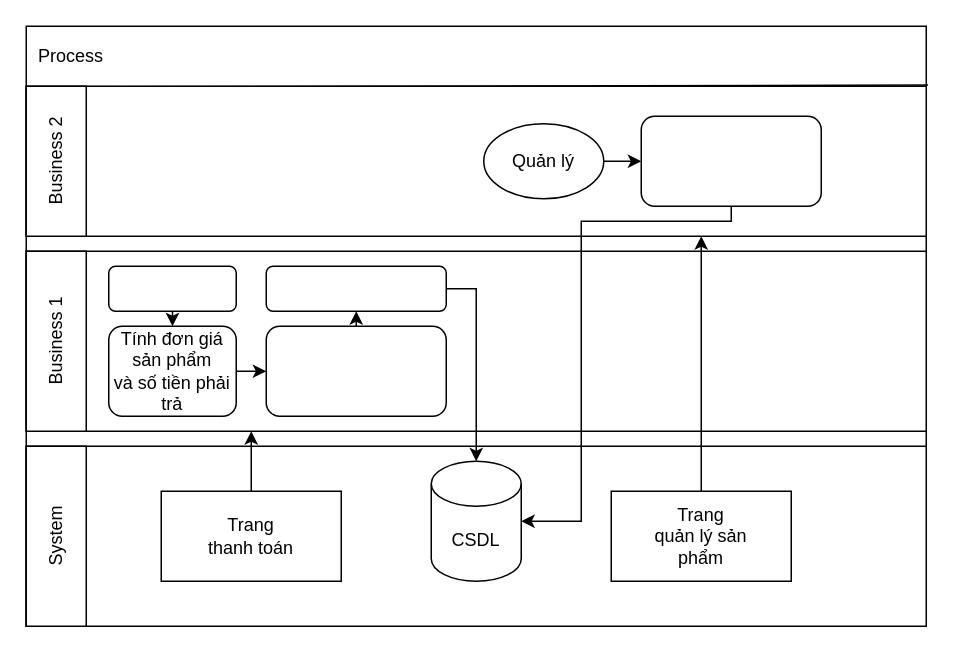
The diagram is 957 pixels wide and 653 high, and some of its shapes have lost their labels. The shapes that lost their labels are listed below. From the top down, each one's centre as x and y in pixels, then its label:
At [730,160]: "Quản lý sản phẩm".
At [171,288]: "Tiền hành thanh toán".
At [355,288]: "In hóa đơn, kết thúc giao dịch".
At [355,370]: "Giảm số lượng sản phẩm trong kho".
